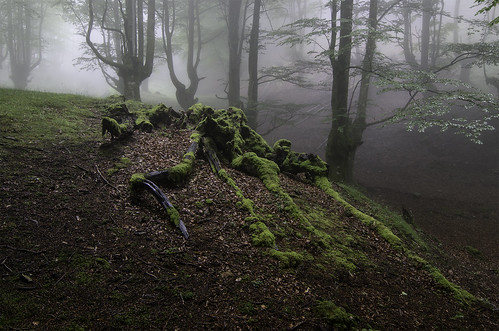dirt: (39, 120, 475, 331)
vegetation: (1, 1, 481, 173)
